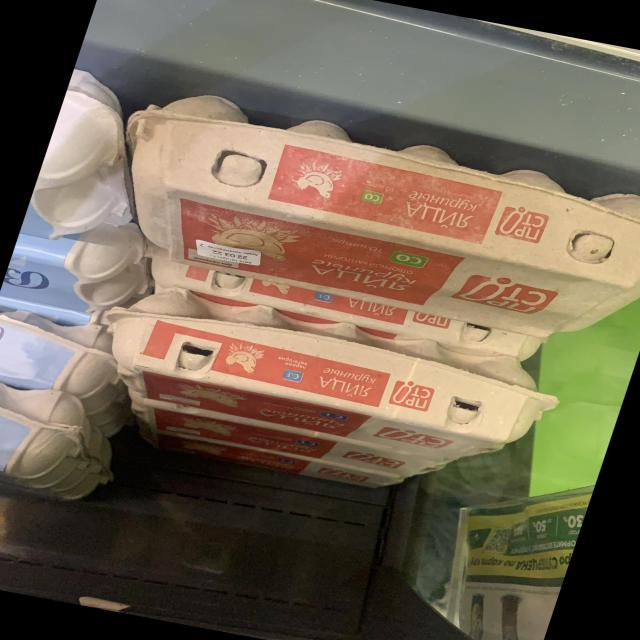organic waste: (80, 82, 640, 356), (81, 282, 568, 474)
